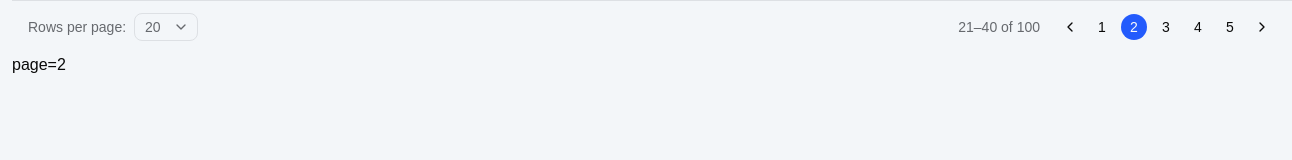
Test: PaginationControls › advances to next page on Next click
Click the button named "Next page". click: click(1262, 27)
box: [1248,13,1276,41]
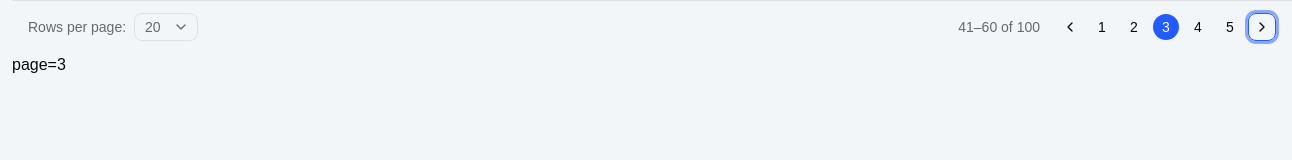
Now the text with test id "params" reads "page=3", box [12,56,66,73]
